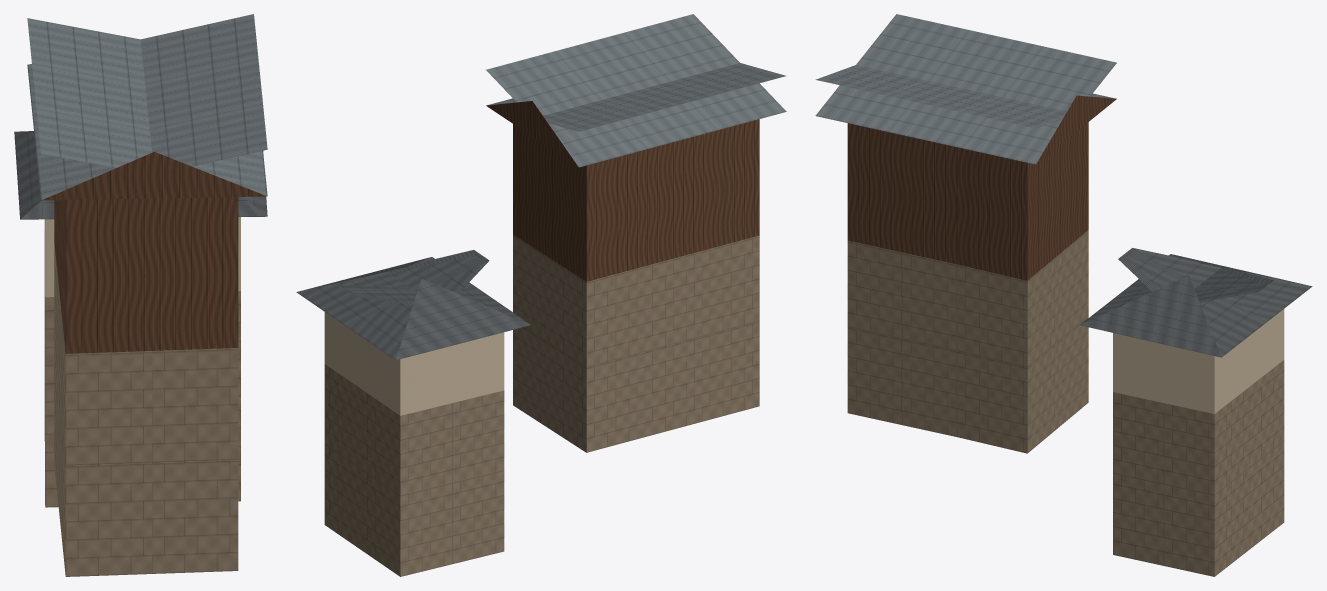
File: bld_c1_17_470.gltf
3 renders of one model, left to right at view 1: azimuth 30°, elevation 25°; view 2: azimuth 150°, elevation 25°; view 3: azimuth 270°, elevation 25°, orthographic. The views are drawn at different scales.
Visible parts, largest first — view 1: bld_c1_17_470; view 2: bld_c1_17_470; view 3: bld_c1_17_470.
Part boxes in pixels (x1=…): bld_c1_17_470: x1=14, y1=14, x2=267, y2=576; bld_c1_17_470: x1=296, y1=14, x2=786, y2=576; bld_c1_17_470: x1=815, y1=14, x2=1312, y2=576.
Size of the model in its own units: 9.64 by 11.4 by 12.46.
6 materials, 6 textured.
